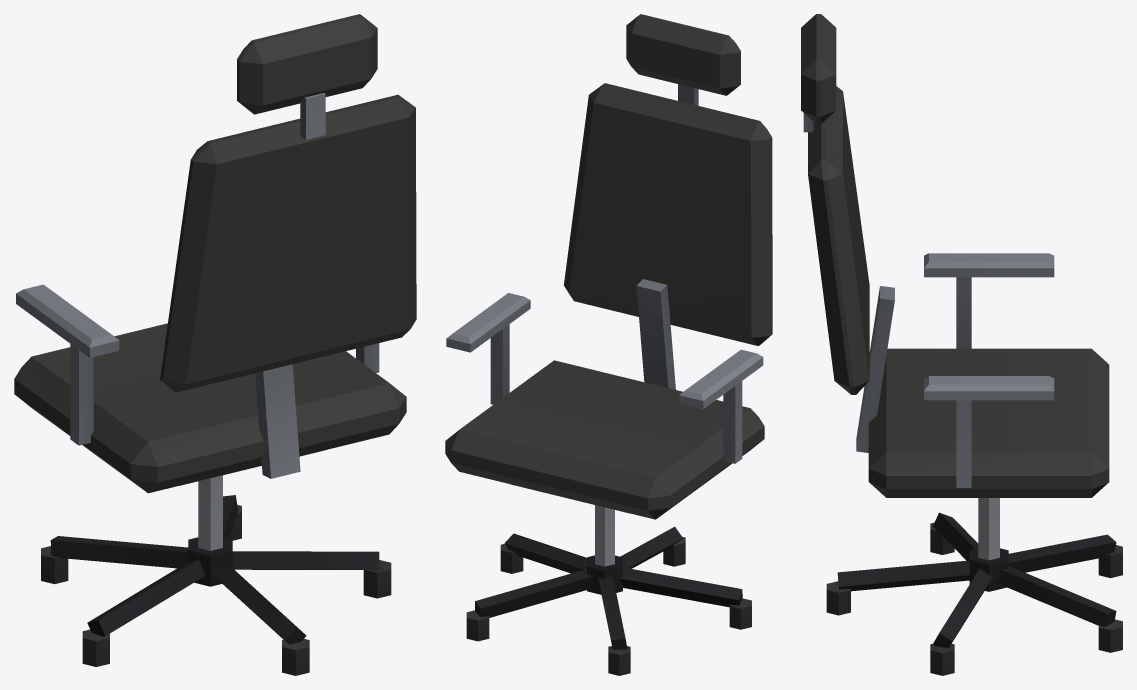
The model's file is chair_office_02.glb.
3 views of the same model, side by side, from view 1: azimuth 30°, elevation 25°; view 2: azimuth 150°, elevation 25°; view 3: azimuth 270°, elevation 25° (orthographic). The views are drawn at different scales.
Visible parts, largest first — view 1: chair_office_02_mesh; view 2: chair_office_02_mesh; view 3: chair_office_02_mesh.
Boxes of the visible parts, x1=… form: chair_office_02_mesh: x1=14, y1=14, x2=416, y2=675; chair_office_02_mesh: x1=445, y1=14, x2=772, y2=675; chair_office_02_mesh: x1=801, y1=14, x2=1122, y2=675.
Bounding box in the file's own units: 0.6401 × 1.26 × 0.6419.
Materials: 1 (1 with a texture image).
